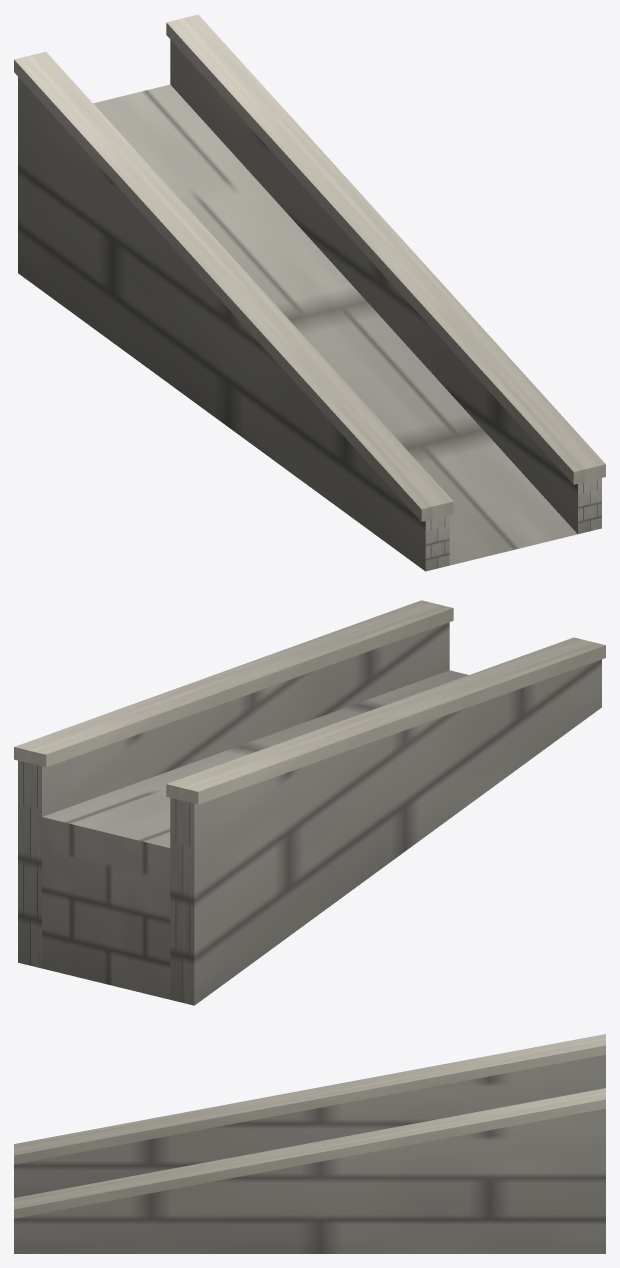
File: walk_ramp_01.glb
The picture shows the model from 3 angles, top to bottom: view 1: azimuth 30°, elevation 25°; view 2: azimuth 150°, elevation 25°; view 3: azimuth 270°, elevation 25°; orthographic projection. The views are drawn at different scales.
Parts seen in each view (by area): view 1: walk_ramp_01; view 2: walk_ramp_01; view 3: walk_ramp_01.
Part boxes in pixels (bbox=[...]): walk_ramp_01: bbox=[14, 14, 605, 571]; walk_ramp_01: bbox=[14, 600, 605, 1005]; walk_ramp_01: bbox=[14, 1034, 605, 1253].
Size of the model in its own units: 2.29 by 2.55 by 8.77.
Materials: 1 (1 with a texture image).
